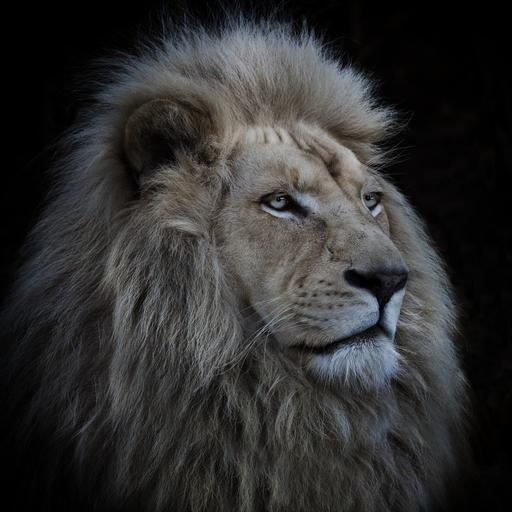Lion: (0, 9, 466, 512)
